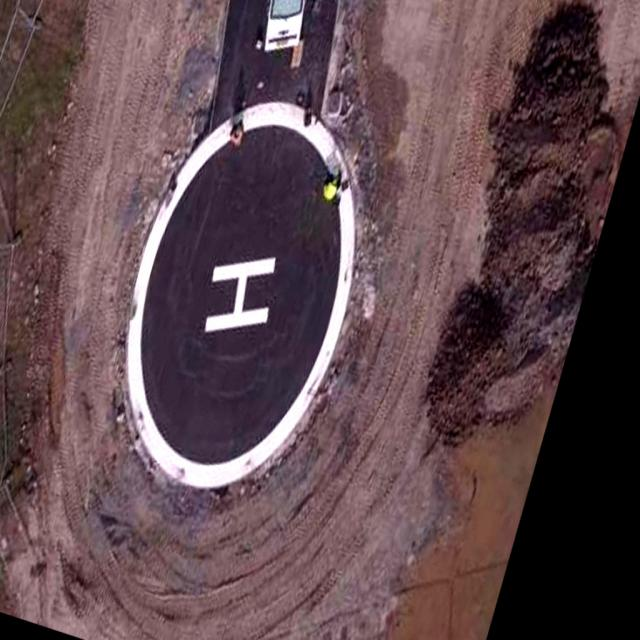helipad: (118, 90, 357, 498)
